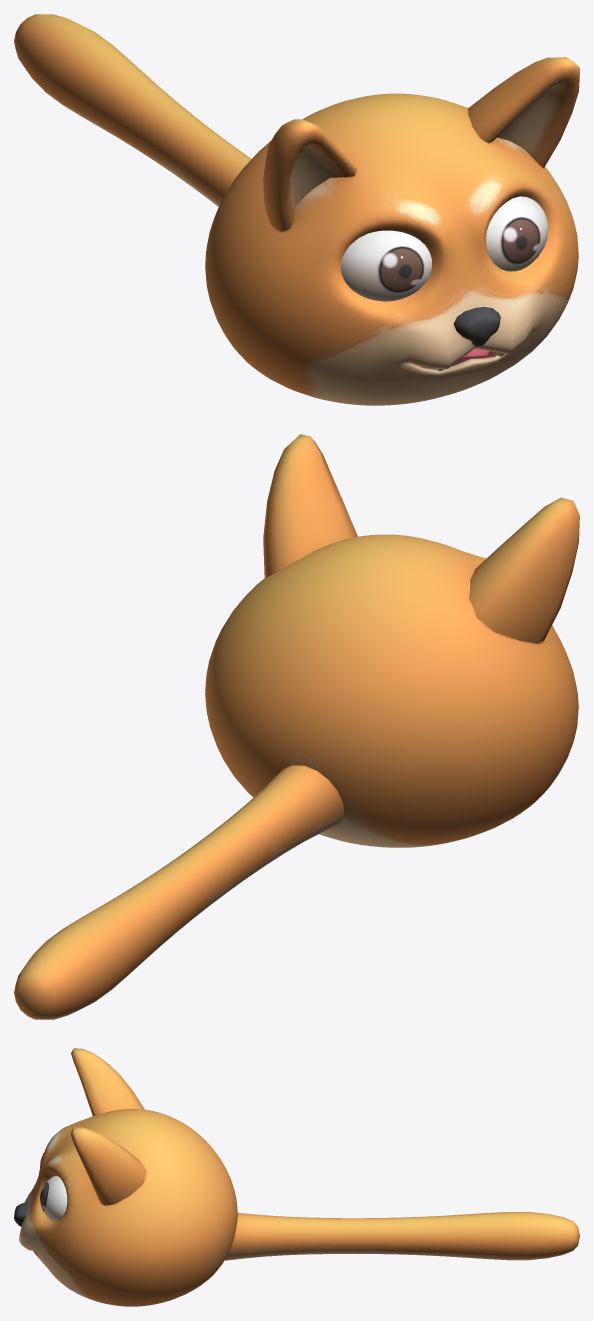
Rendered from Pet.gltf.
The picture shows the model from 3 angles, top to bottom: view 1: azimuth 30°, elevation 25°; view 2: azimuth 150°, elevation 25°; view 3: azimuth 270°, elevation 25°; orthographic projection. The views are drawn at different scales.
Parts seen in each view (by area): view 1: Sphere; view 2: Sphere; view 3: Sphere.
Part boxes in pixels (box(x1,y1,x2,y2)): Sphere: box(14, 14, 579, 405); Sphere: box(14, 434, 579, 1019); Sphere: box(14, 1048, 579, 1306).
Bounding box in the file's own units: 2.87 × 2.72 × 6.84.
2 materials, 2 textured.
